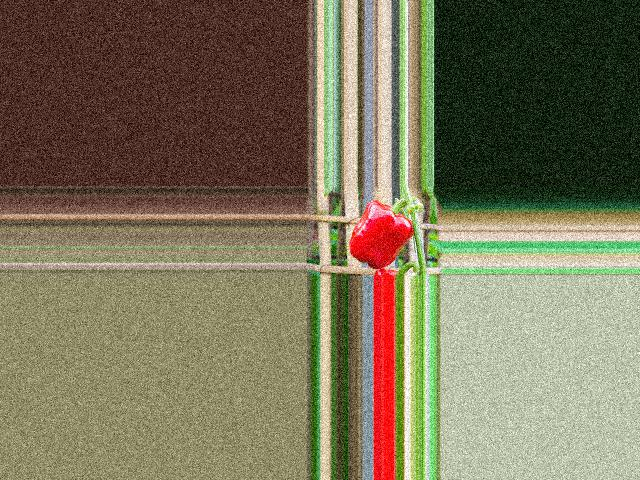bell_pepper: (344, 200, 418, 268)
